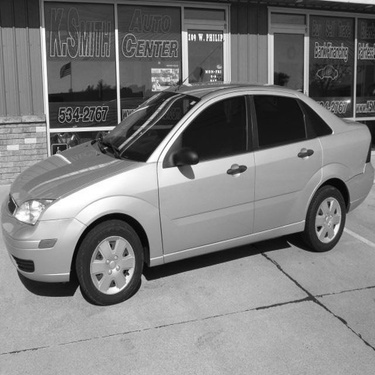car: (4, 79, 370, 309)
